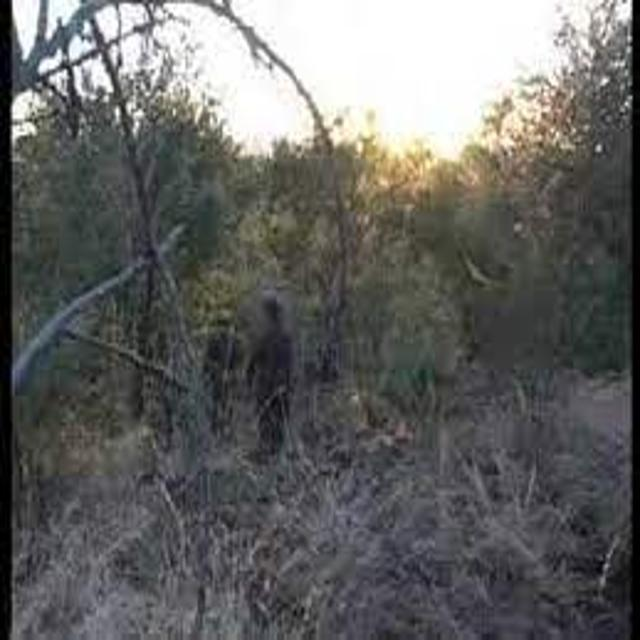poacher: (238, 272, 339, 499), (183, 302, 267, 462)
